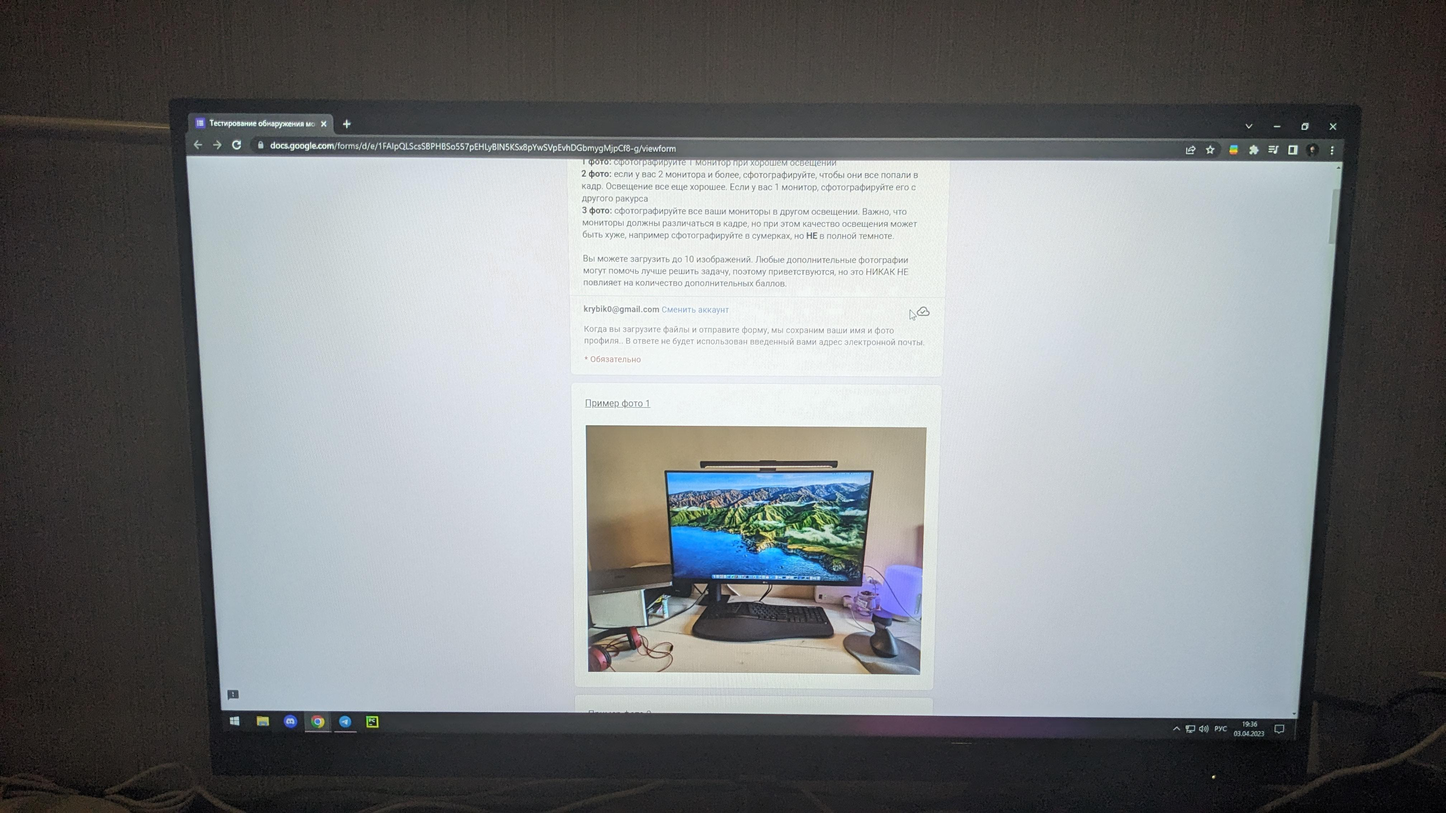monitor: (167, 88, 1372, 780)
